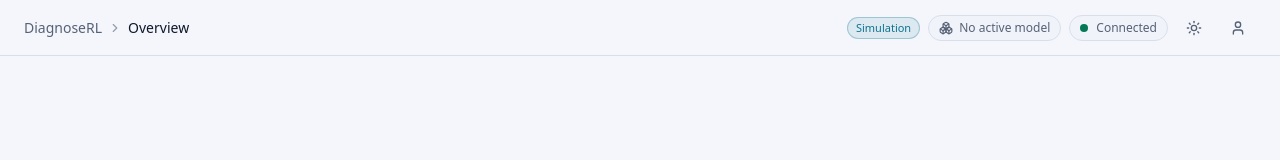
TopNavbar › toggles between dark and light themes
The width and height of the screenshot is (1280, 160).
Click the button named "switch to light theme": (1194, 28) [1176,10,1212,46]
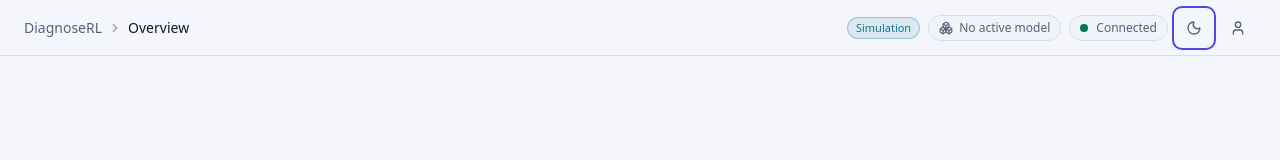
Click the button named "switch to dark theme": (1194, 28) [1176,10,1212,46]
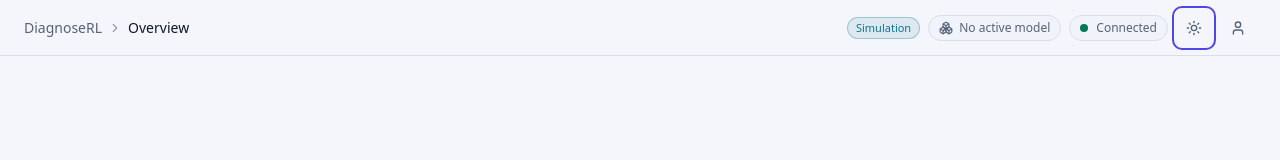
Expected: the button named "switch to light theme" is shown, [1176,10,1212,46]
